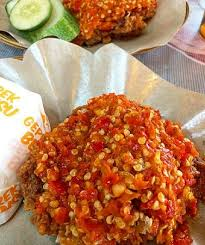ayam_geprek: (7, 103, 202, 242)
